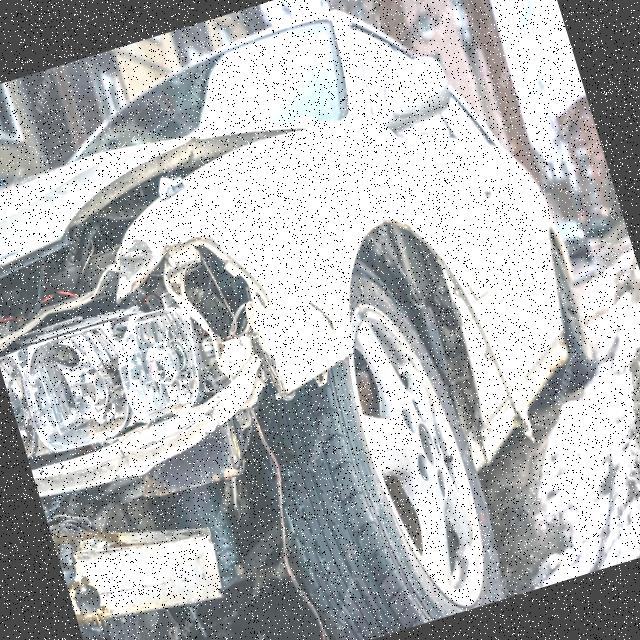Head Light: (0, 135, 344, 640)
